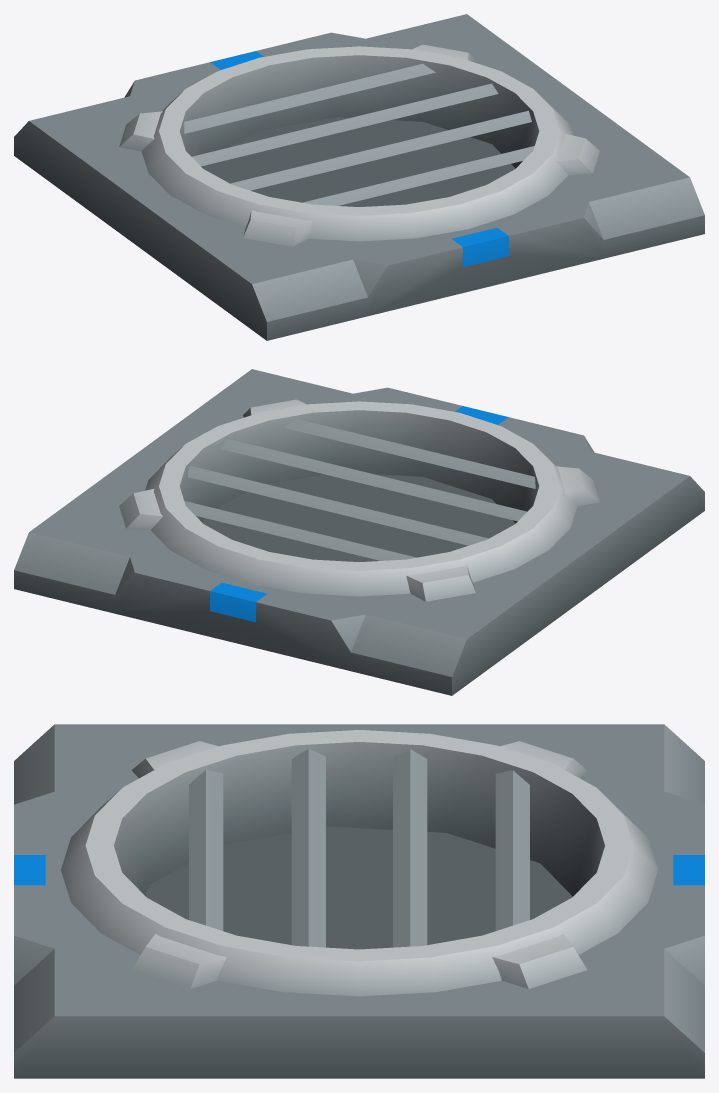
Rendered from Ventilation_002.glb.
3 views of the same model, one above another, from view 1: azimuth 30°, elevation 25°; view 2: azimuth 150°, elevation 25°; view 3: azimuth 270°, elevation 25° (orthographic). The views are drawn at different scales.
Parts seen in each view (by area): view 1: Ventilation_002; view 2: Ventilation_002; view 3: Ventilation_002.
Part boxes in pixels (x1,y1,x2,y2): Ventilation_002: (14,14,704,340); Ventilation_002: (14,369,704,695); Ventilation_002: (14,724,704,1078).
Size of the model in its own units: 1 by 0.1392 by 1.
2 materials, 2 textured.
